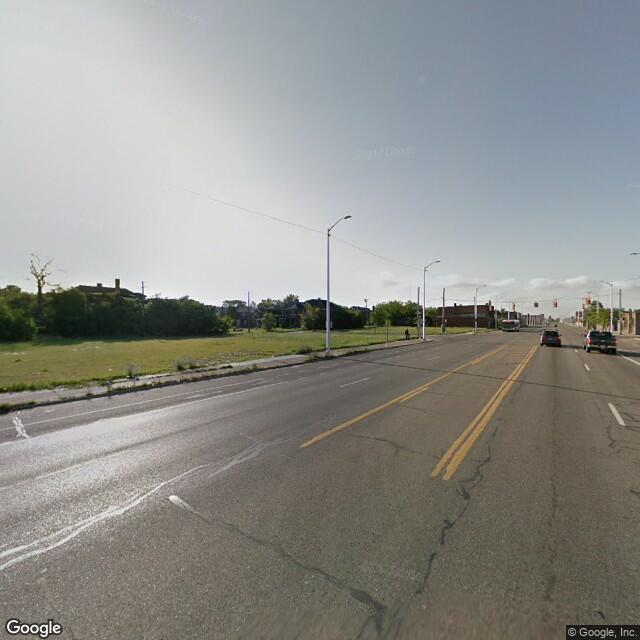litter: (106, 367, 112, 372)
